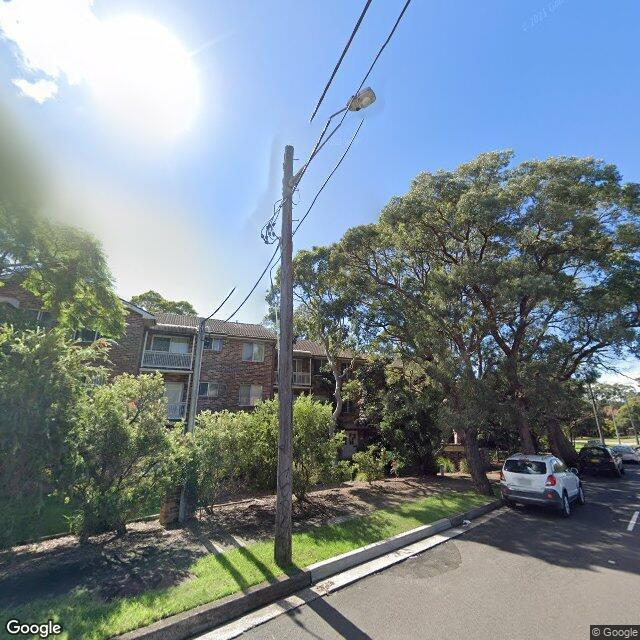steel-pole: (186, 322, 207, 434)
streetlight: (290, 86, 378, 198)
timber-pole: (274, 144, 296, 564), (588, 382, 605, 443)
